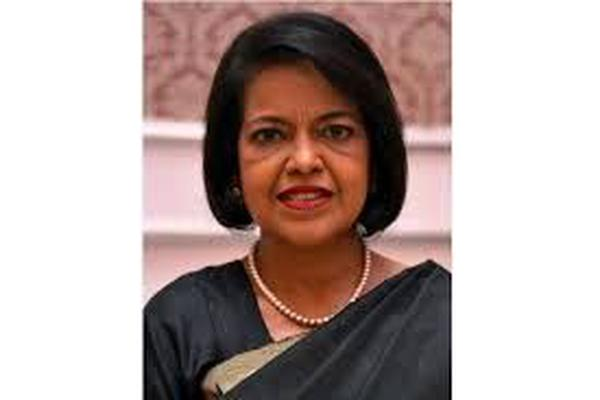Indian: (238, 80, 367, 243)
